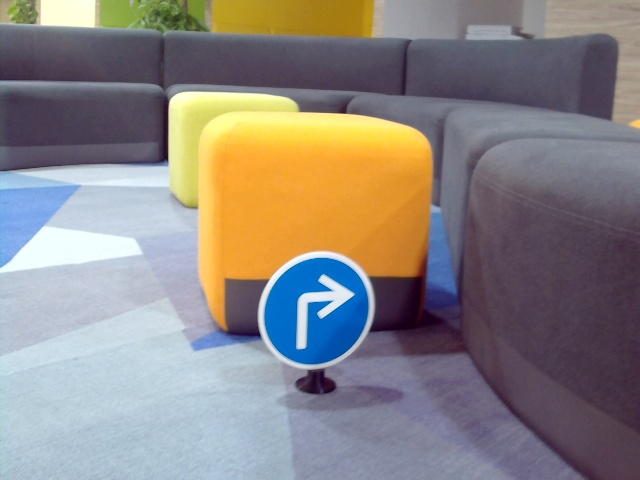turn_right: (290, 271, 348, 351)
